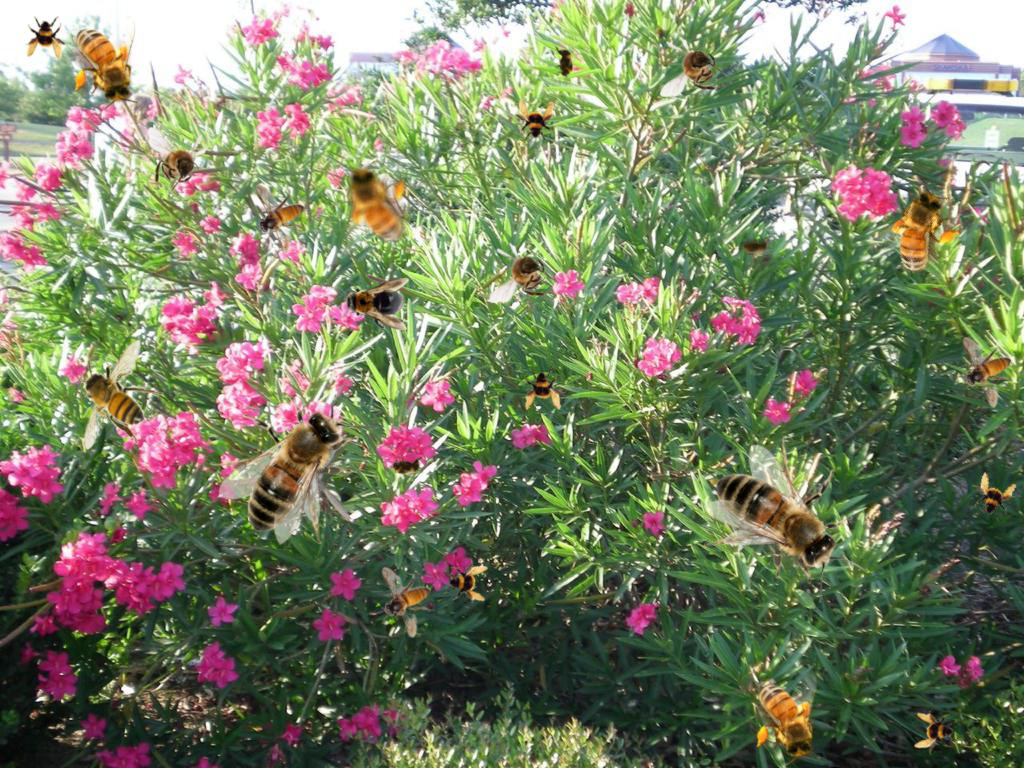Bee: (210, 382, 377, 544), (704, 436, 866, 603), (861, 175, 975, 290), (70, 339, 164, 450), (341, 161, 409, 254), (71, 16, 139, 109), (753, 672, 821, 765), (489, 242, 559, 303), (660, 36, 730, 97), (148, 127, 209, 197), (381, 567, 431, 638), (962, 337, 1012, 408), (255, 184, 305, 255), (341, 278, 409, 330), (964, 469, 1020, 525), (520, 365, 568, 413), (512, 99, 556, 143), (25, 16, 69, 60), (914, 711, 958, 755), (444, 559, 488, 603), (735, 235, 775, 257), (554, 43, 576, 83), (386, 455, 426, 477)
